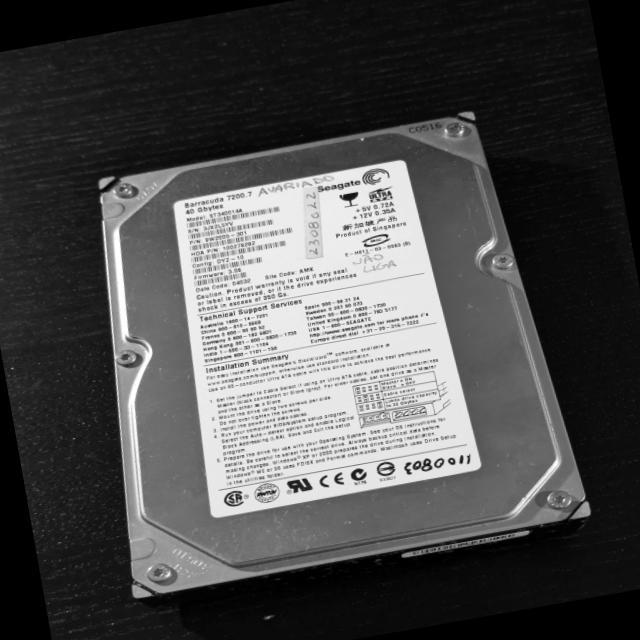DISK: (59, 102, 596, 616)
